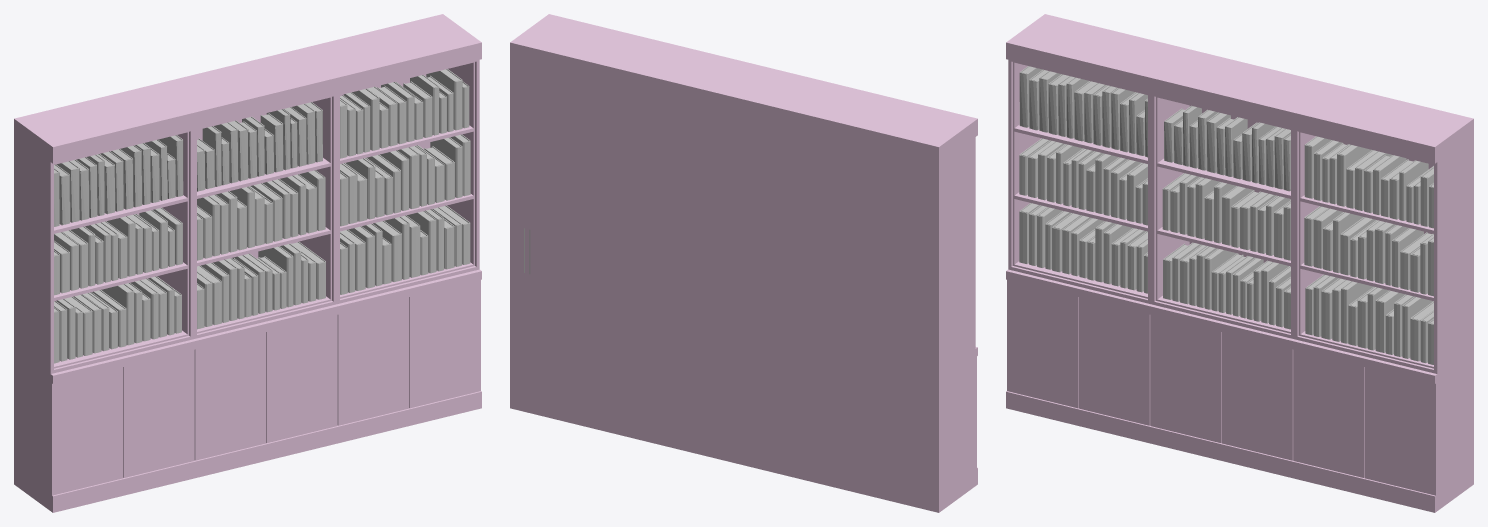
The model's file is bookshelf_filled.fbx.
3 renders of one model, left to right at view 1: azimuth 30°, elevation 25°; view 2: azimuth 150°, elevation 25°; view 3: azimuth 330°, elevation 25°, orthographic.
Visible parts, largest first — view 1: book_shelf, book.033, book.066, book_014, book.015, book.032, book.049, book.016, book.048, book_001; view 2: book_shelf; view 3: book_shelf, book.015, book.066, book.033, book_014, book.048, book.049, book.032, book.016, book_001.
Boxes of the visible parts, left/top/right/bottom form: book_shelf: left=14, top=14, right=481, bottom=512; book.033: left=340, top=134, right=470, bottom=226; book.066: left=340, top=205, right=470, bottom=294; book_014: left=54, top=135, right=183, bottom=226; book.015: left=340, top=69, right=469, bottom=158; book.032: left=197, top=170, right=325, bottom=260; book.049: left=197, top=241, right=325, bottom=329; book.016: left=54, top=207, right=182, bottom=295; book.048: left=54, top=276, right=181, bottom=363; book_001: left=197, top=102, right=322, bottom=191; book_shelf: left=510, top=14, right=977, bottom=512; book_shelf: left=1006, top=14, right=1473, bottom=512; book.015: left=1304, top=136, right=1433, bottom=228; book.066: left=1305, top=274, right=1433, bottom=364; book.033: left=1304, top=206, right=1433, bottom=296; book_014: left=1019, top=66, right=1147, bottom=157; book.048: left=1019, top=203, right=1147, bottom=293; book.049: left=1163, top=242, right=1290, bottom=329; book.032: left=1162, top=173, right=1290, bottom=260; book.016: left=1019, top=138, right=1147, bottom=225; book_001: left=1164, top=105, right=1290, bottom=191.
Bounding box in the file's own units: 10630 × 8661 × 1677.
